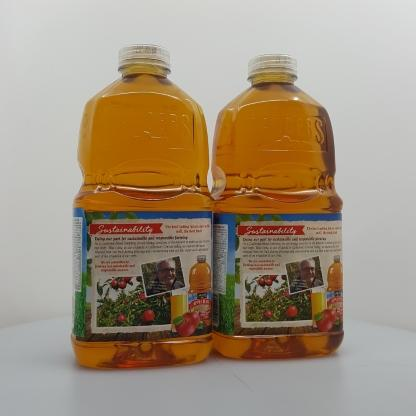-------------: (71, 44, 216, 369), (210, 54, 344, 359)
